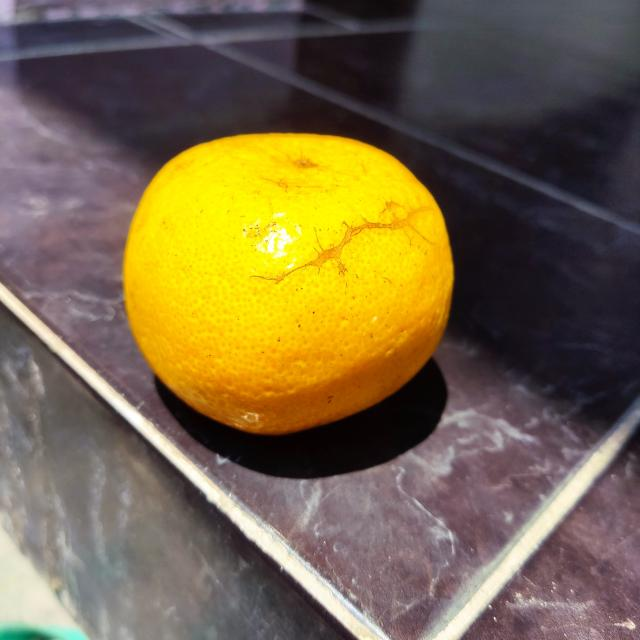orange: (116, 132, 459, 434)
